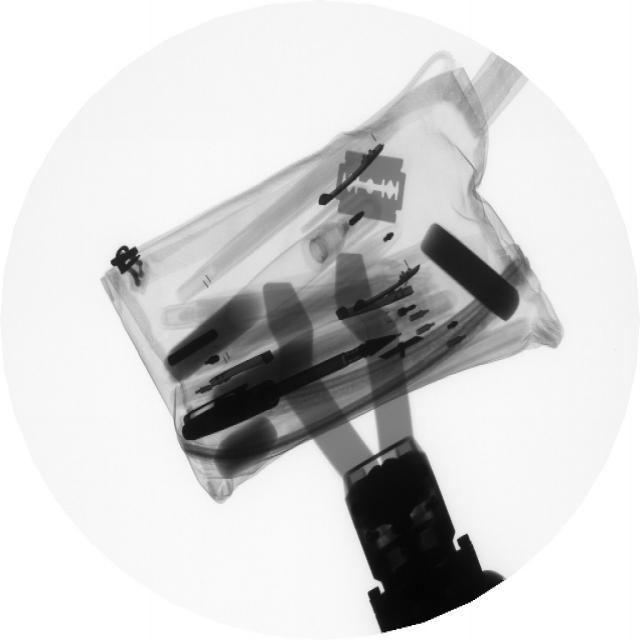BLADE: (330, 140, 417, 234)
